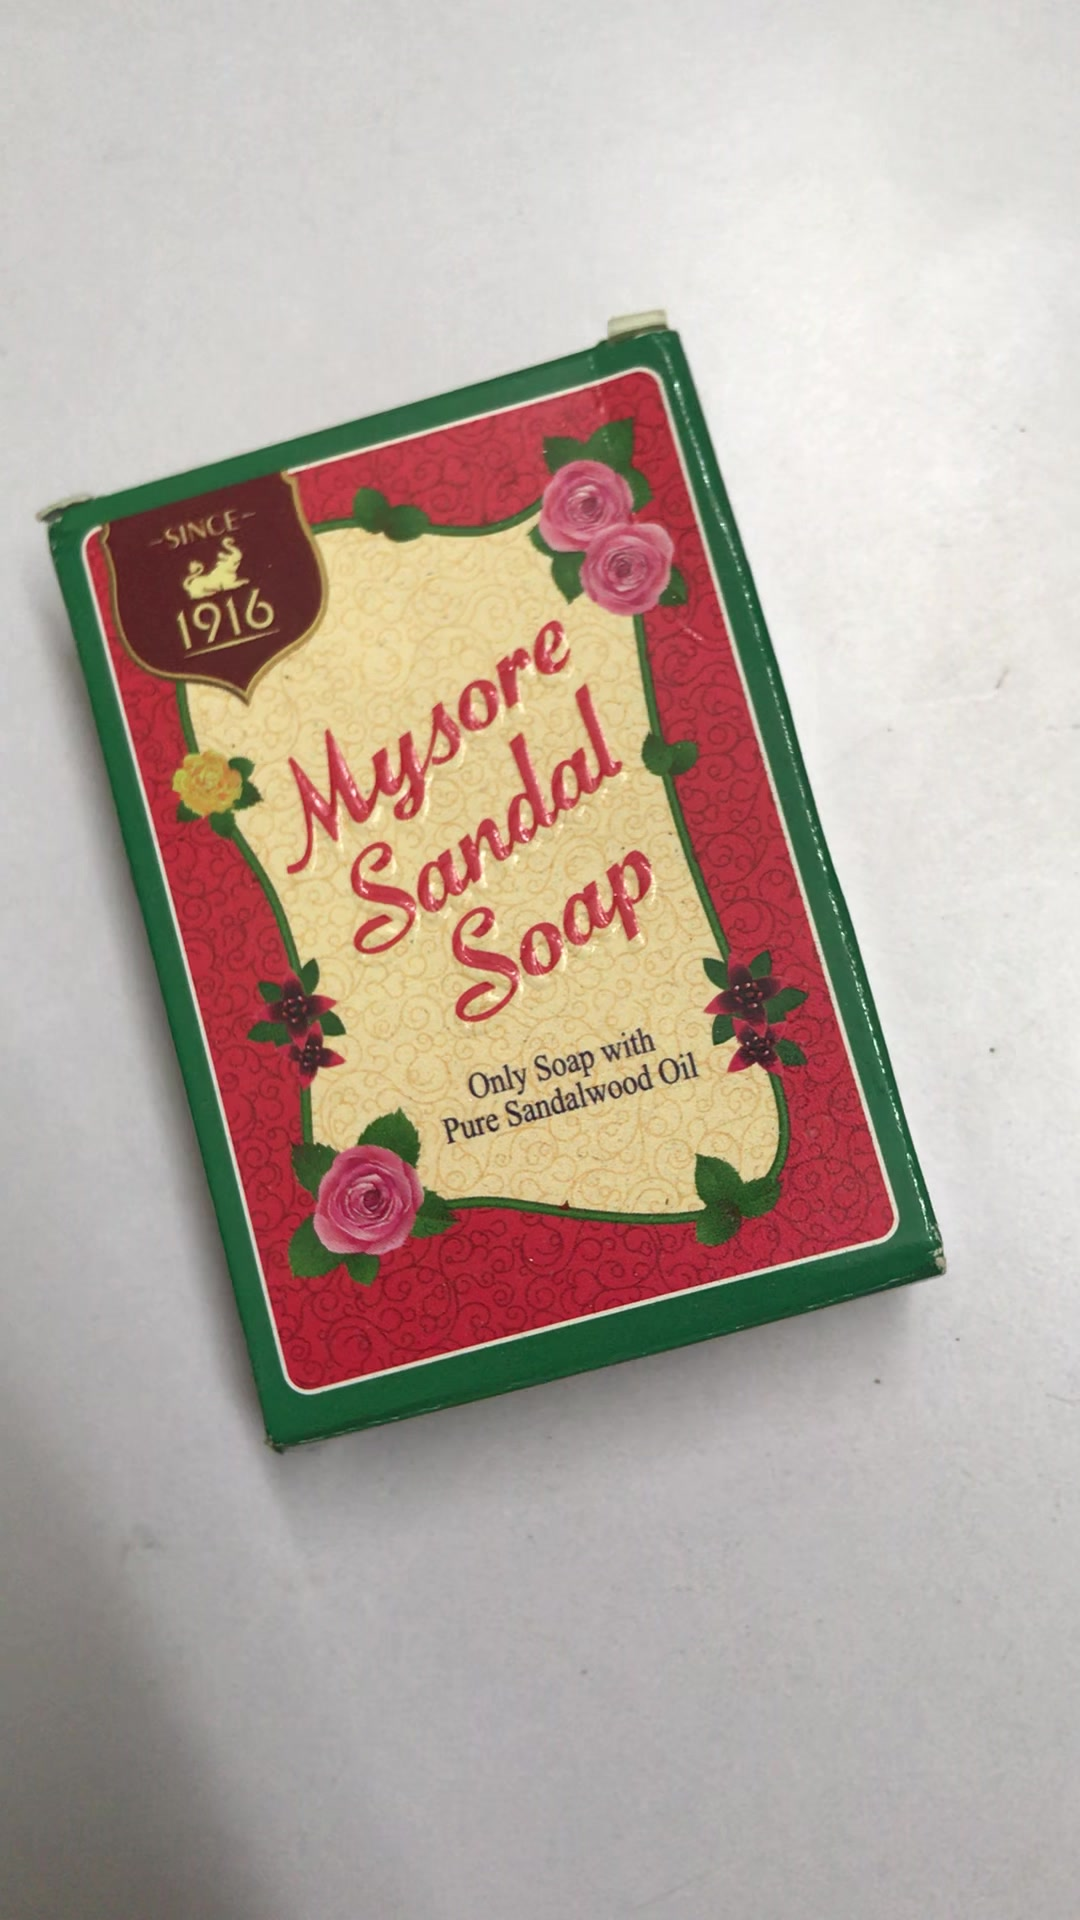mysore sandal soap: (49, 334, 940, 1451)
